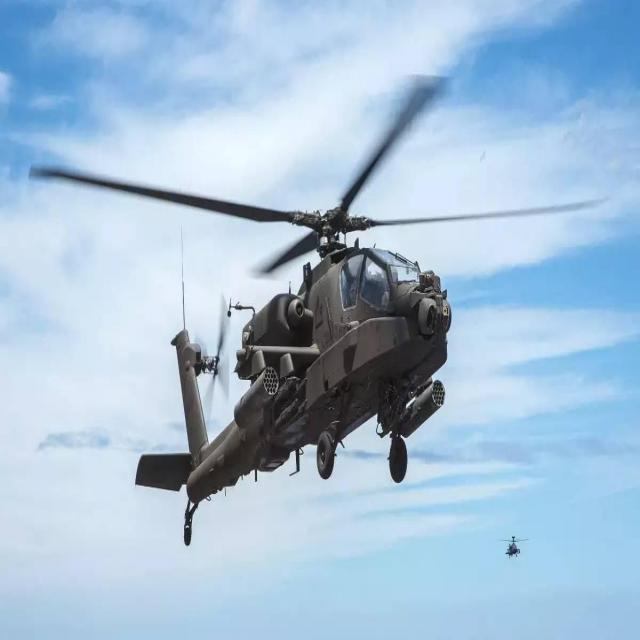MIL_HELO: (26, 72, 615, 547), (501, 531, 526, 559)
